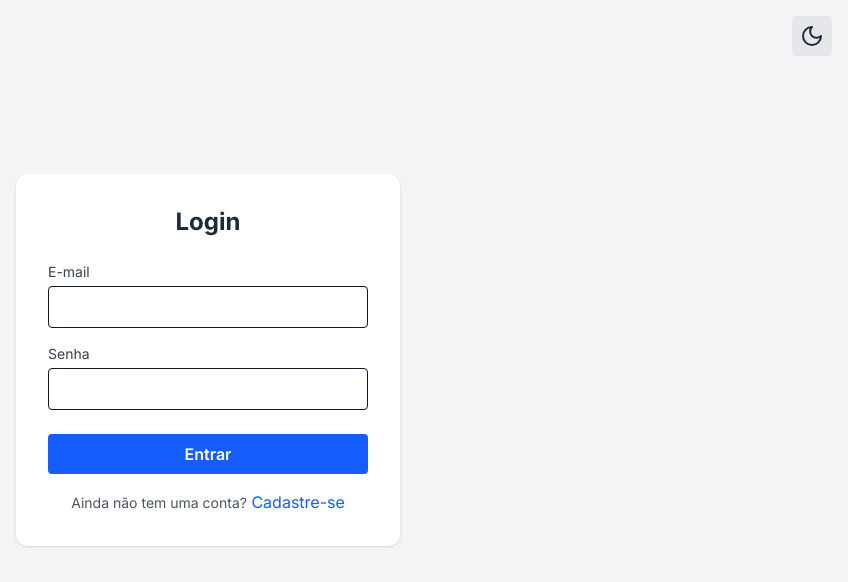
Scenario: Login Page › Login Functionality › should show error message on failed login
The image size is (848, 582).
# Fill in credentials
Type "test@example.com" into the field at x=208, y=307, box [48,286,368,328]
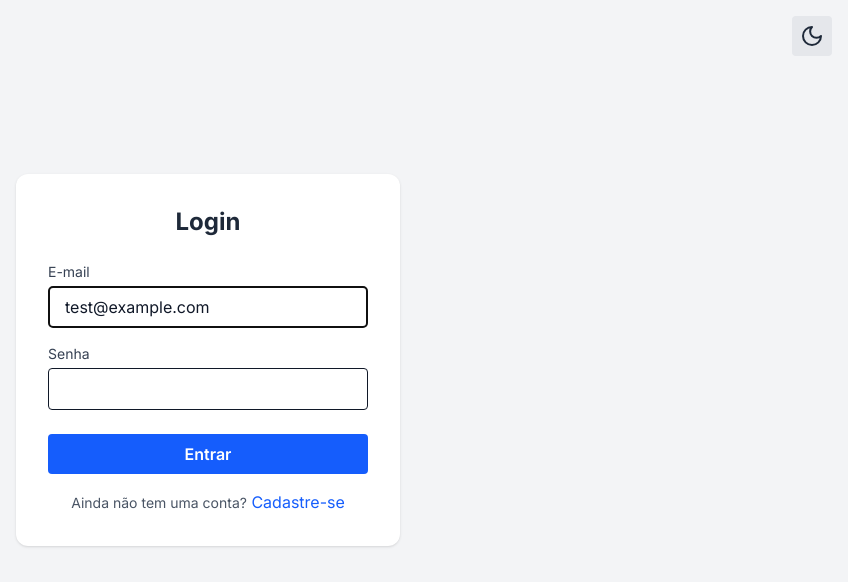
Type "wrongpassword" into the password field at x=208, y=389, box [48,368,368,410]
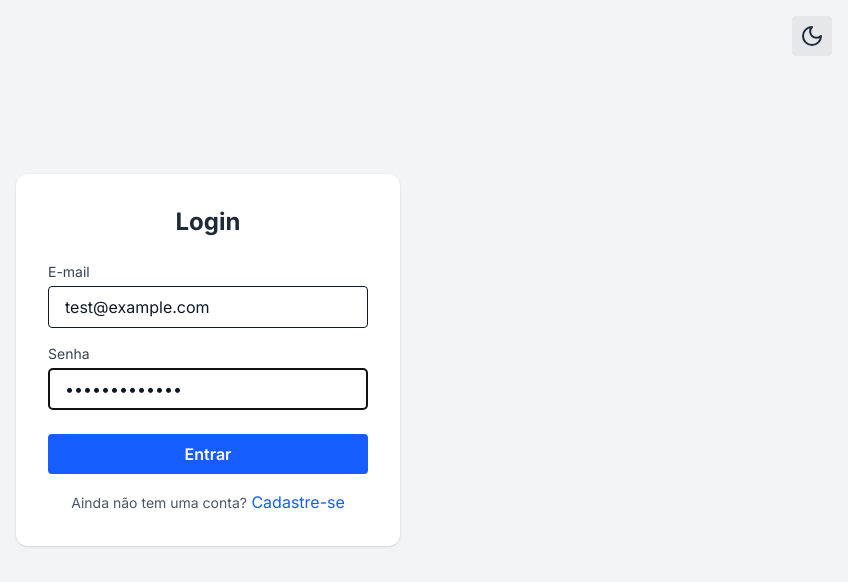
# Submit form
Submit the form, box [16,174,400,546]
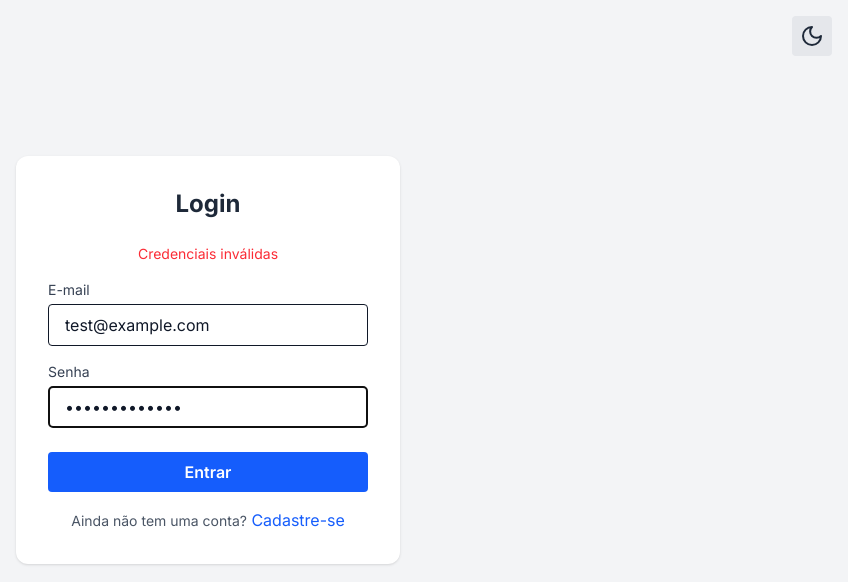
Check: the text "Credenciais inválidas" is shown, box [138,245,278,262]
